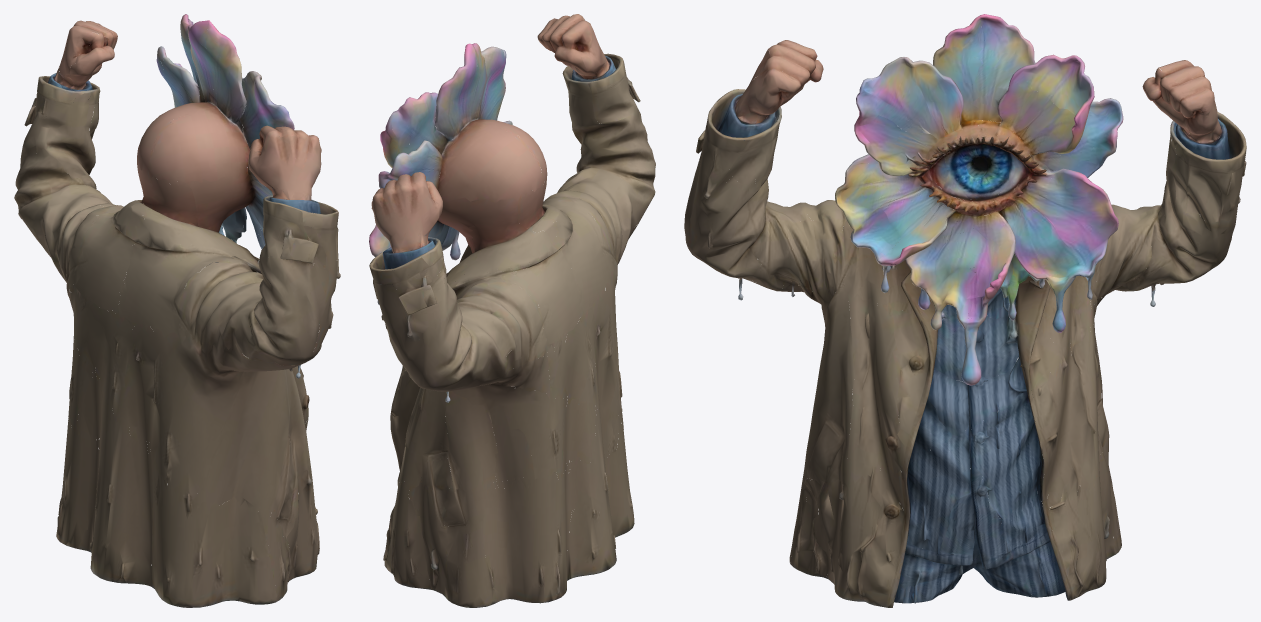
The model's file is anchor.glb.
3 renders of one model, left to right at view 1: azimuth 30°, elevation 25°; view 2: azimuth 150°, elevation 25°; view 3: azimuth 270°, elevation 25°, orthographic. The views are drawn at different scales.
Visible parts, largest first — view 1: tripo_node_fa3dc22c-be10-463f-962a-c85152278aed; view 2: tripo_node_fa3dc22c-be10-463f-962a-c85152278aed; view 3: tripo_node_fa3dc22c-be10-463f-962a-c85152278aed.
Part boxes in pixels (box(x1,y1,x2,y2)): tripo_node_fa3dc22c-be10-463f-962a-c85152278aed: box(14, 14, 340, 607); tripo_node_fa3dc22c-be10-463f-962a-c85152278aed: box(369, 14, 655, 607); tripo_node_fa3dc22c-be10-463f-962a-c85152278aed: box(684, 14, 1246, 607).
Size of the model in its own units: 0.425 by 1 by 0.9072.
1 material, 1 textured.
